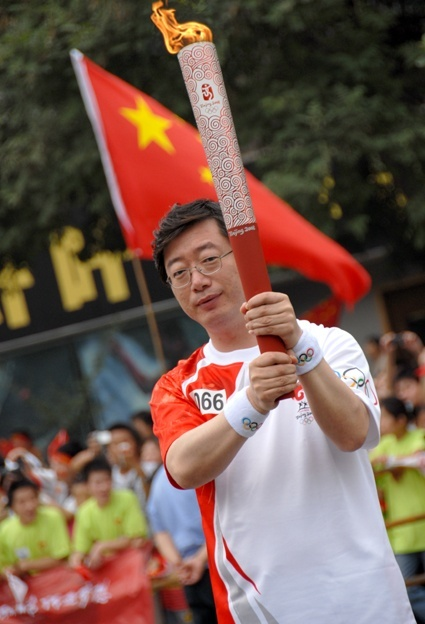fire: (148, 1, 210, 51), (119, 98, 172, 149)
